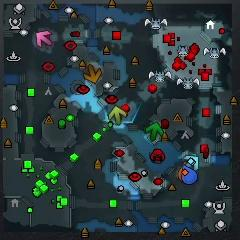p1: (183, 166, 198, 185)
p5: (178, 166, 186, 182)
x1: (35, 31, 52, 49)
x2: (108, 105, 127, 127)
x3: (183, 155, 200, 171)
x4: (146, 122, 163, 141)
x5: (85, 65, 101, 84)
